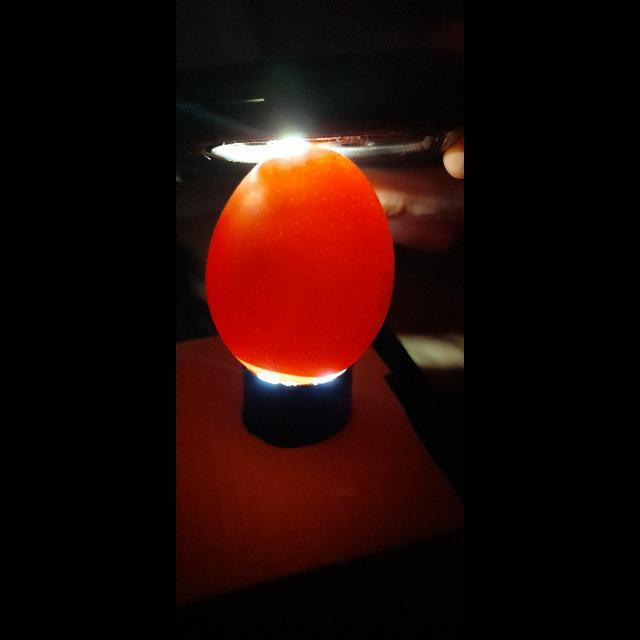Fertile: (209, 142, 395, 376)
